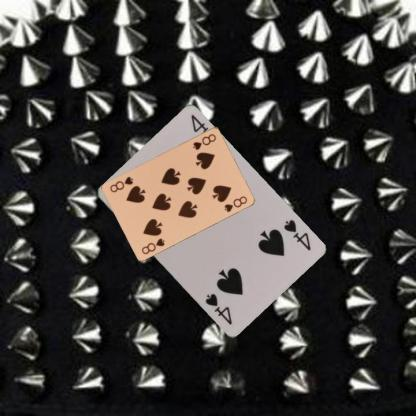4s: (280, 217, 312, 252)
8s: (139, 235, 166, 256), (190, 131, 217, 151)
